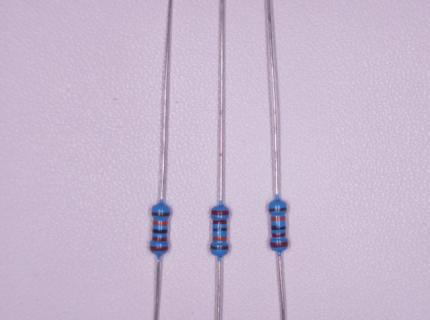Black band: (271, 226, 286, 230), (153, 229, 167, 233), (213, 228, 227, 231)
Brown band: (152, 212, 170, 217), (211, 246, 229, 250), (269, 208, 286, 212)
Orange band: (213, 236, 226, 241), (272, 216, 285, 221), (153, 221, 167, 225)
Red band: (150, 246, 169, 251), (211, 210, 229, 215), (270, 242, 288, 247), (152, 237, 167, 241), (213, 220, 227, 224), (272, 233, 286, 237)
